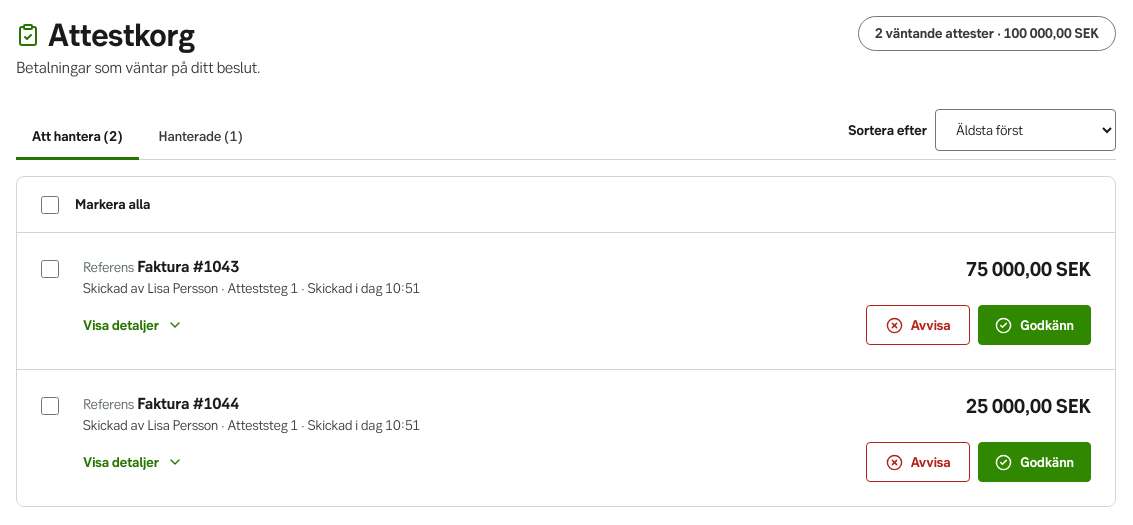
Test: Approving several payments at once › hides the row buttons while payments are ticked, so there is one approve button
Expected: the number of buttons named "Godkänn betalning med referens" is 2, [978,305,1091,345]; [978,442,1091,482]
Step 1. Click the checkbox named "Markera Faktura #1043" → x=50, y=269, box [41,260,59,278]
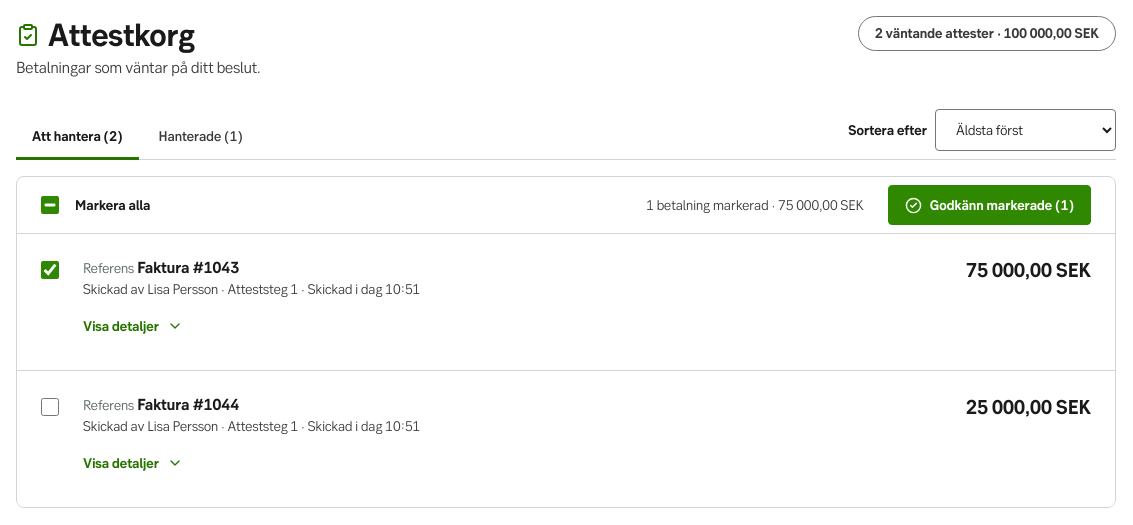
Step 2. Click the checkbox named "Markera Faktura #1043" → x=50, y=270, box [41,261,59,279]
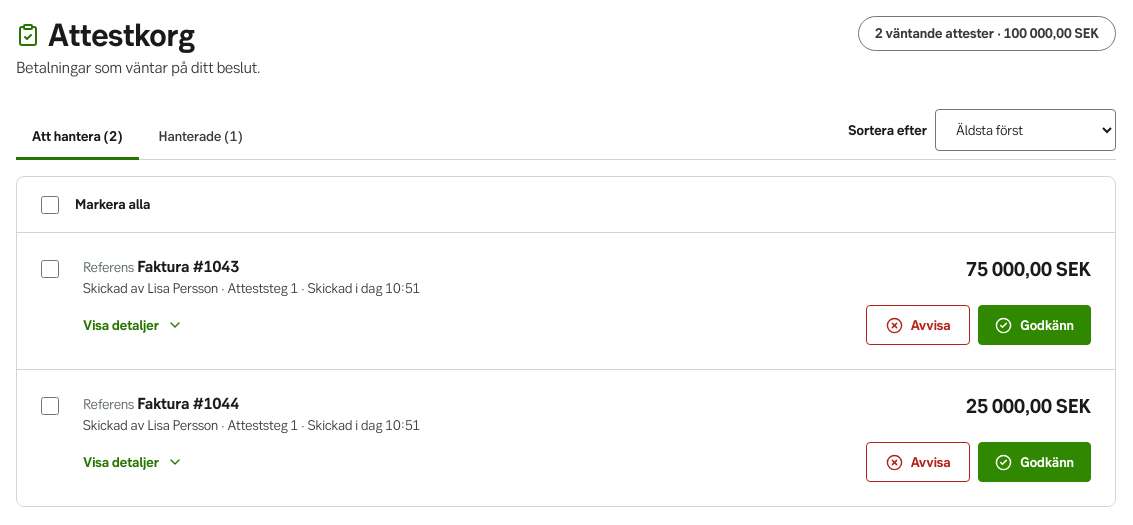
Now the number of buttons named "Godkänn betalning med referens" is 2, box [978,305,1091,345]; [978,442,1091,482]
